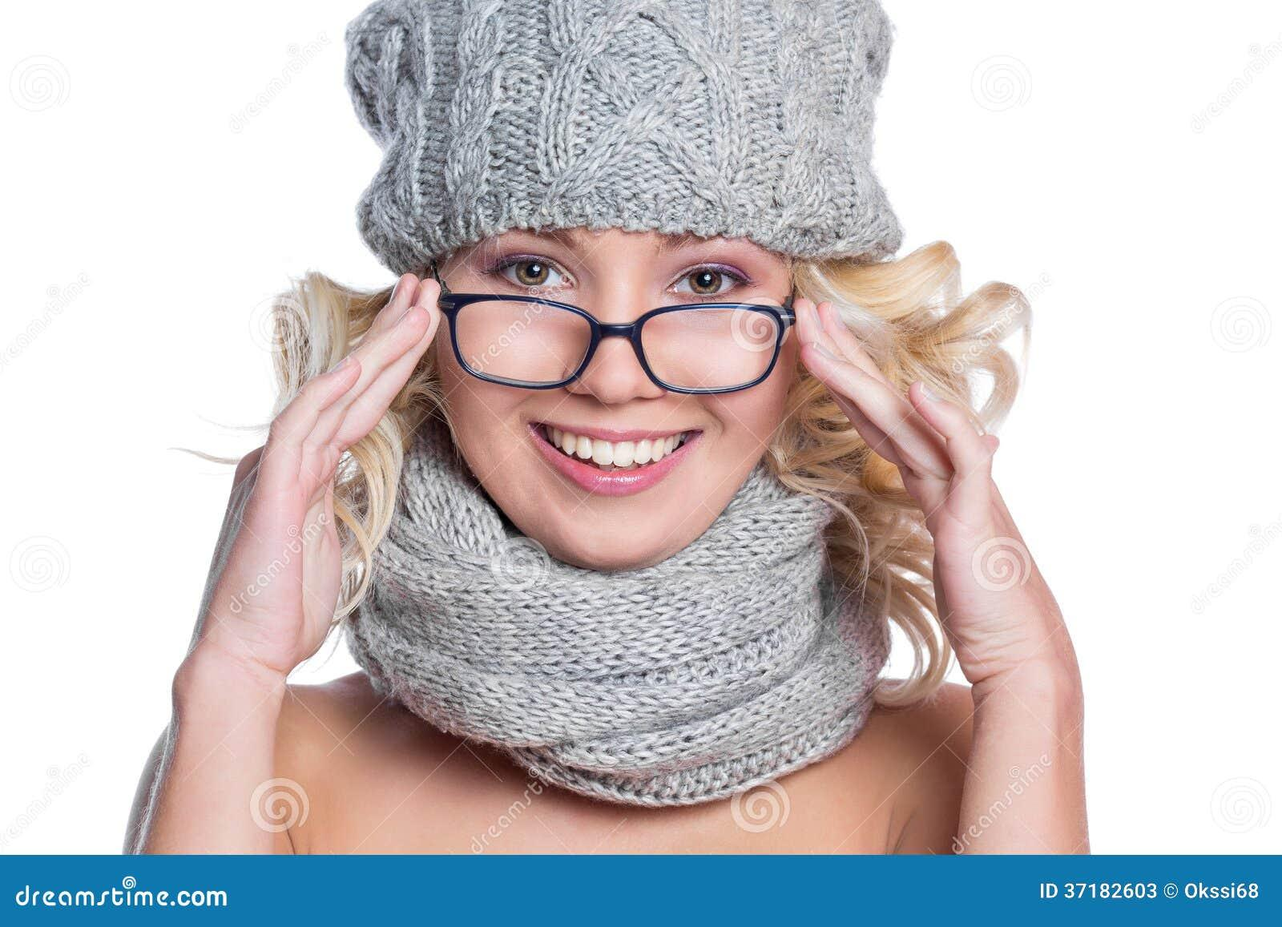cap: (345, 0, 919, 296)
sunglasses: (427, 278, 820, 409)
